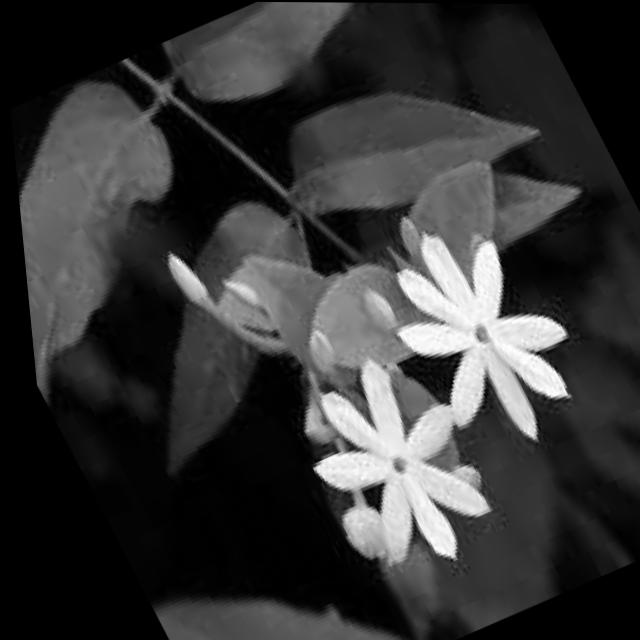Flower: (353, 206, 608, 473), (259, 337, 514, 587)
